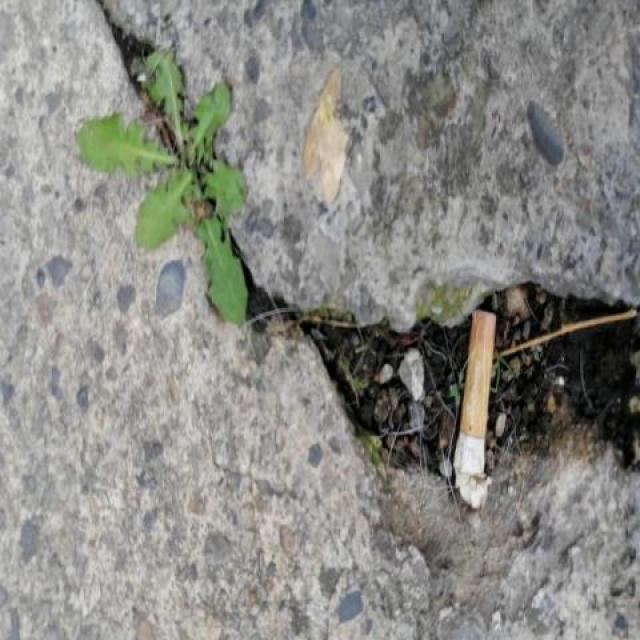non-organic waste: (452, 304, 499, 516)
